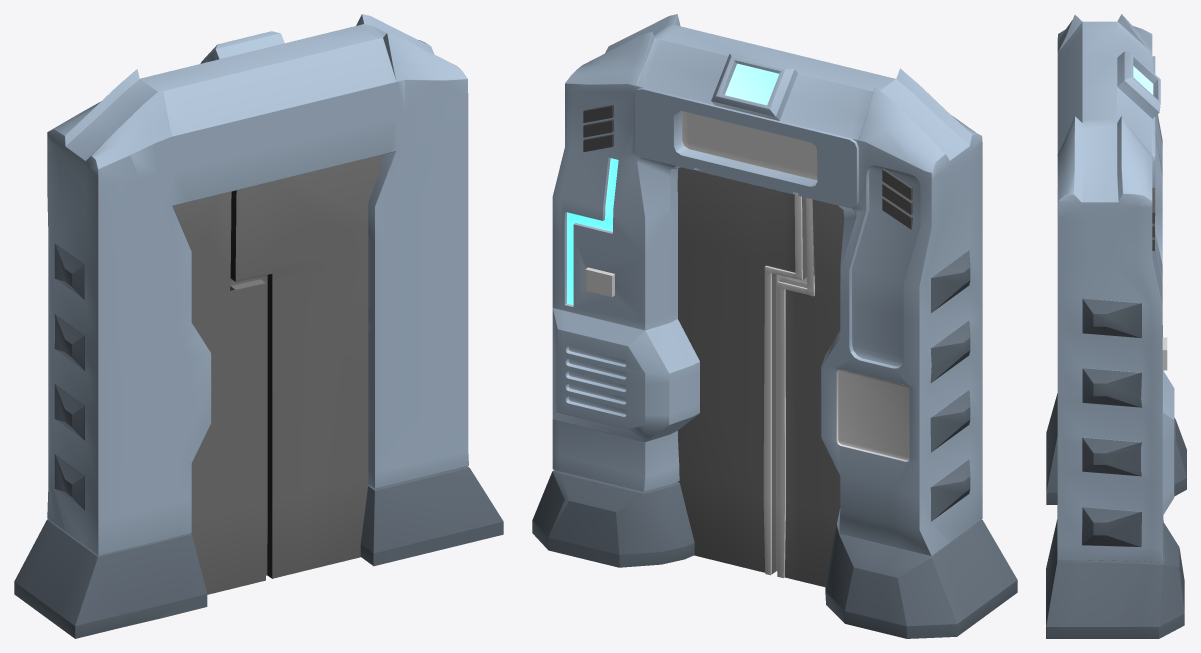
Rendered from Door_new.fbx.
The picture shows the model from 3 angles, left to right: view 1: azimuth 30°, elevation 25°; view 2: azimuth 150°, elevation 25°; view 3: azimuth 270°, elevation 25°; orthographic projection. The views are drawn at different scales.
Visible parts, largest first — view 1: Door.003, Door.002; view 2: Door.003, Door.002; view 3: Door.003.
Part boxes in pixels (<box>): Door.003: <box>14,14,503,638</box>; Door.002: <box>172,154,383,594</box>; Door.003: <box>532,14,1017,638</box>; Door.002: <box>677,167,844,586</box>; Door.003: <box>1046,14,1186,638</box>.
Size of the model in its own units: 671 by 772 by 206.
